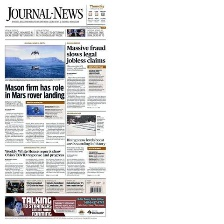news_paper: (4, 2, 105, 219)
